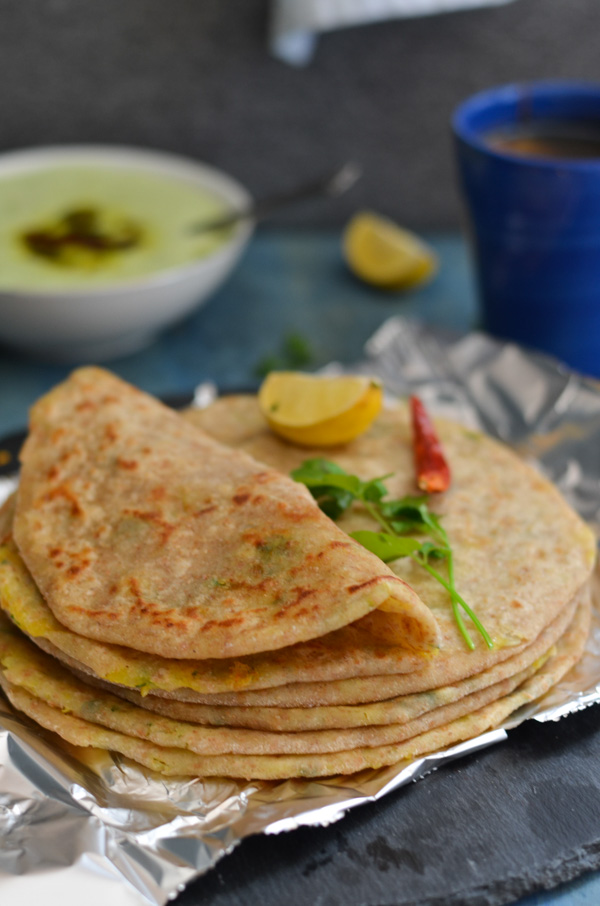aloo_paratha: (3, 352, 600, 782)
